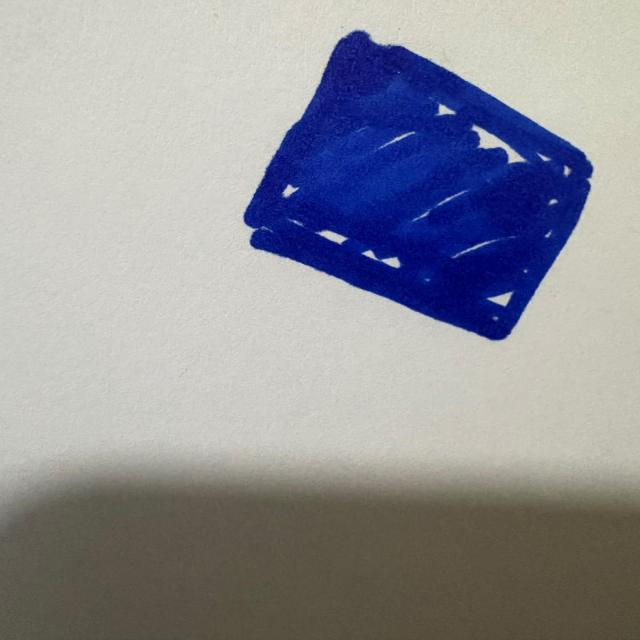Square: (244, 32, 591, 340)
